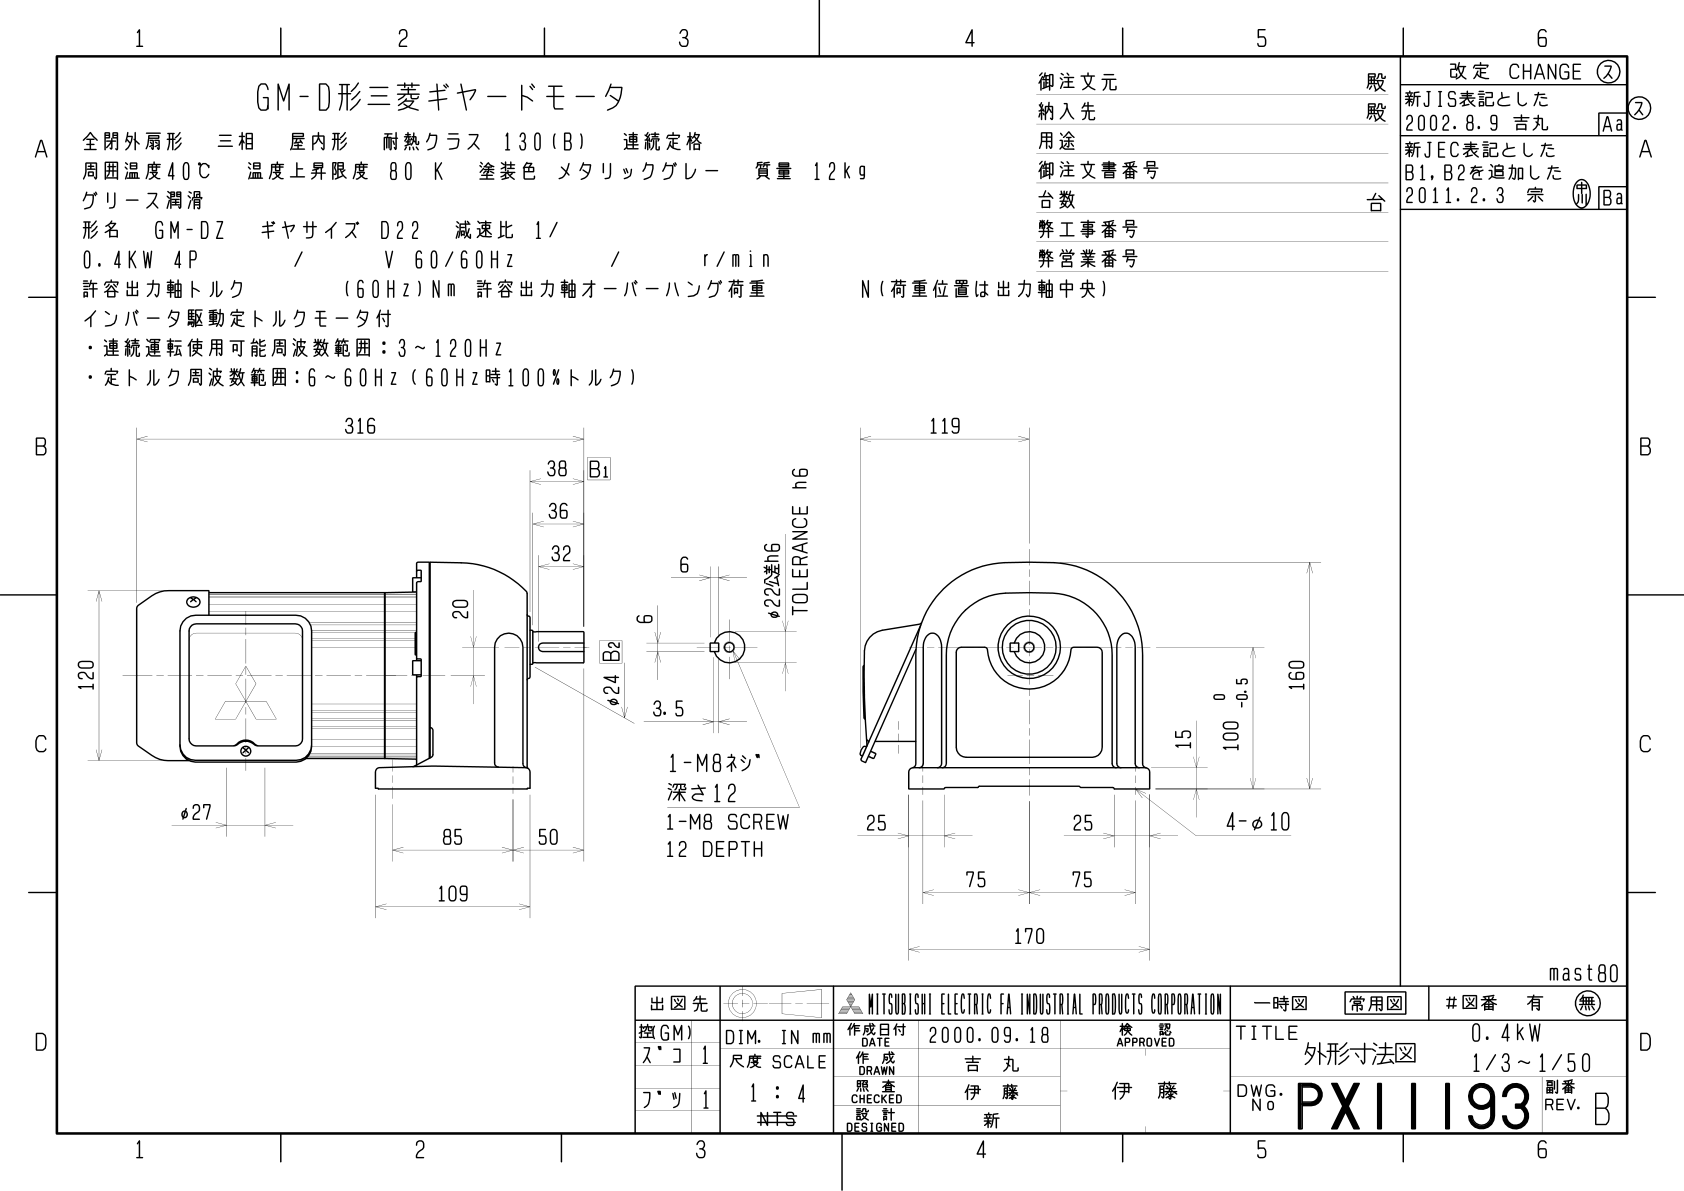GM_D_インバータ屋内_三相_脚: (10, 1, 1684, 1191)
